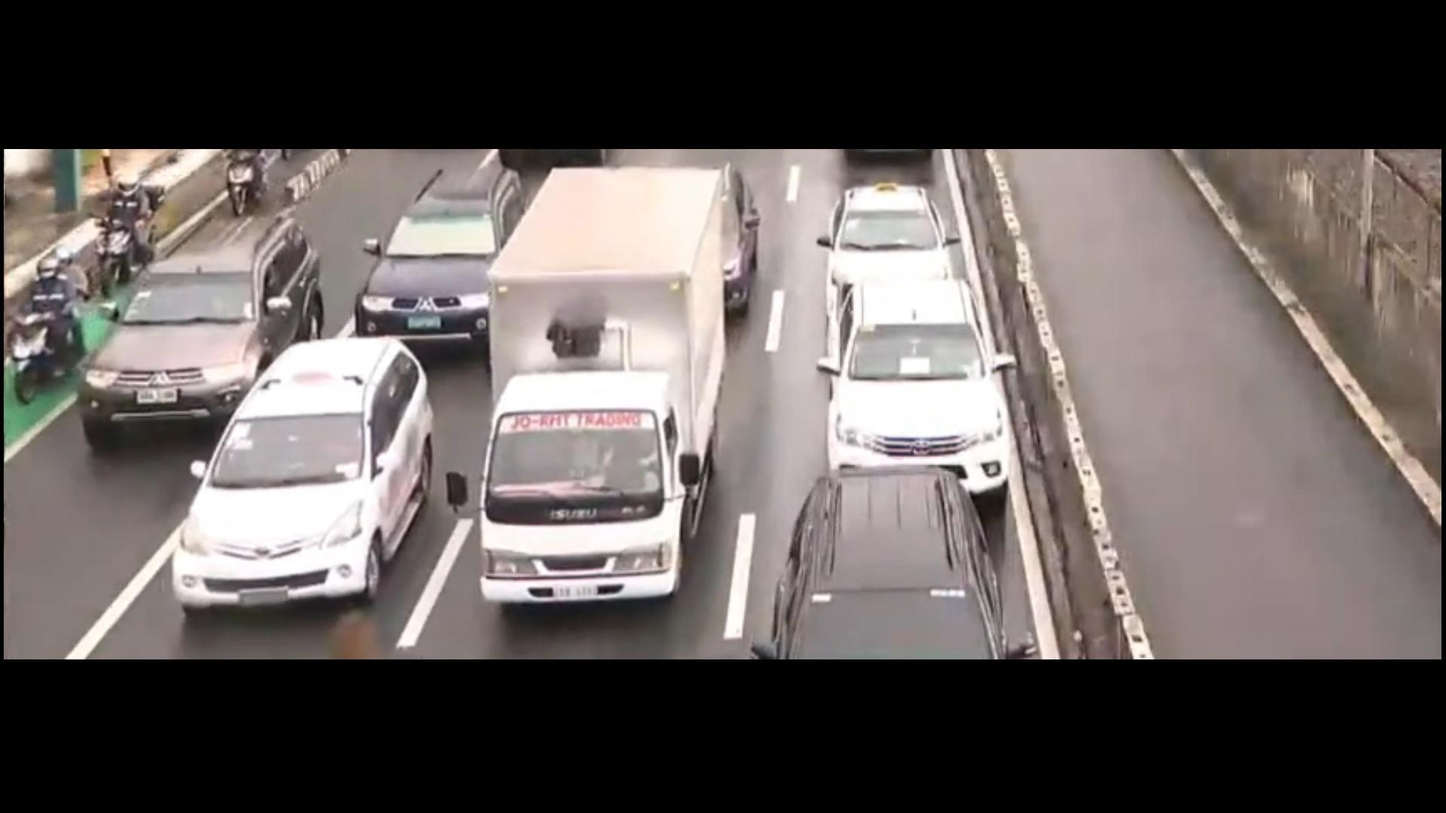Motorcycle: (10, 232, 85, 405), (70, 175, 181, 274), (219, 143, 277, 217)
SUV: (146, 324, 445, 612), (805, 262, 1041, 520), (61, 209, 319, 440), (760, 465, 1028, 664), (343, 164, 539, 346)
Sedan: (805, 174, 964, 298)
Truck: (450, 151, 759, 630)
